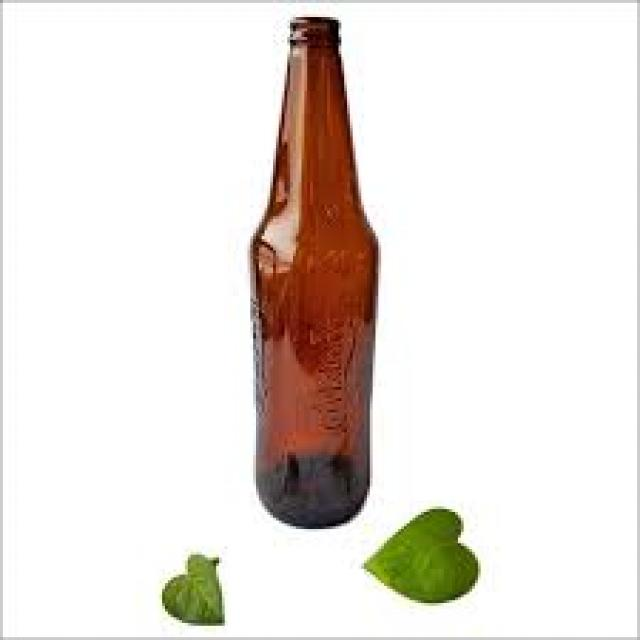organic waste: (358, 507, 475, 598), (159, 555, 222, 623)
